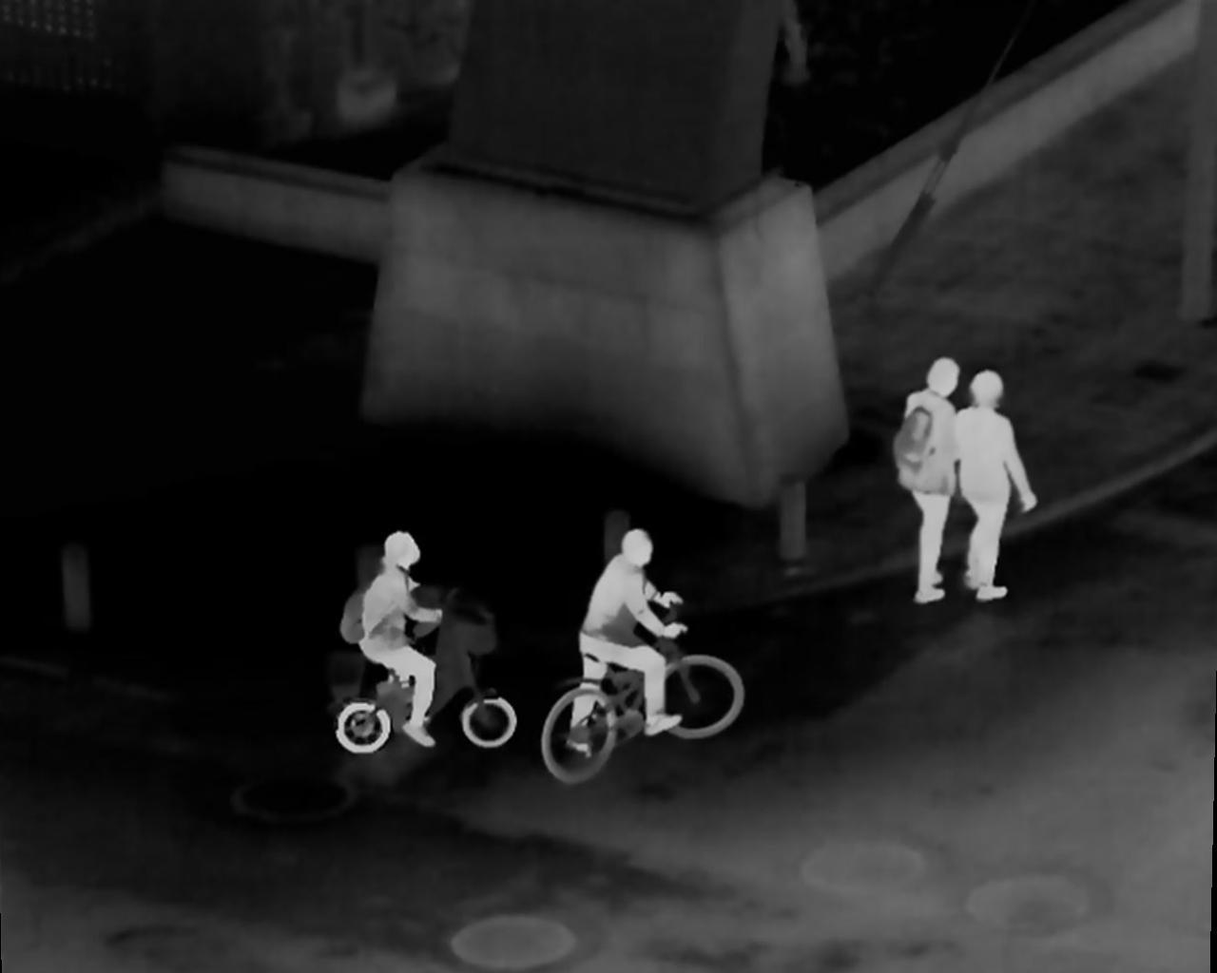person: (579, 522, 701, 759), (342, 524, 463, 761), (941, 368, 1038, 604), (911, 351, 976, 610)
